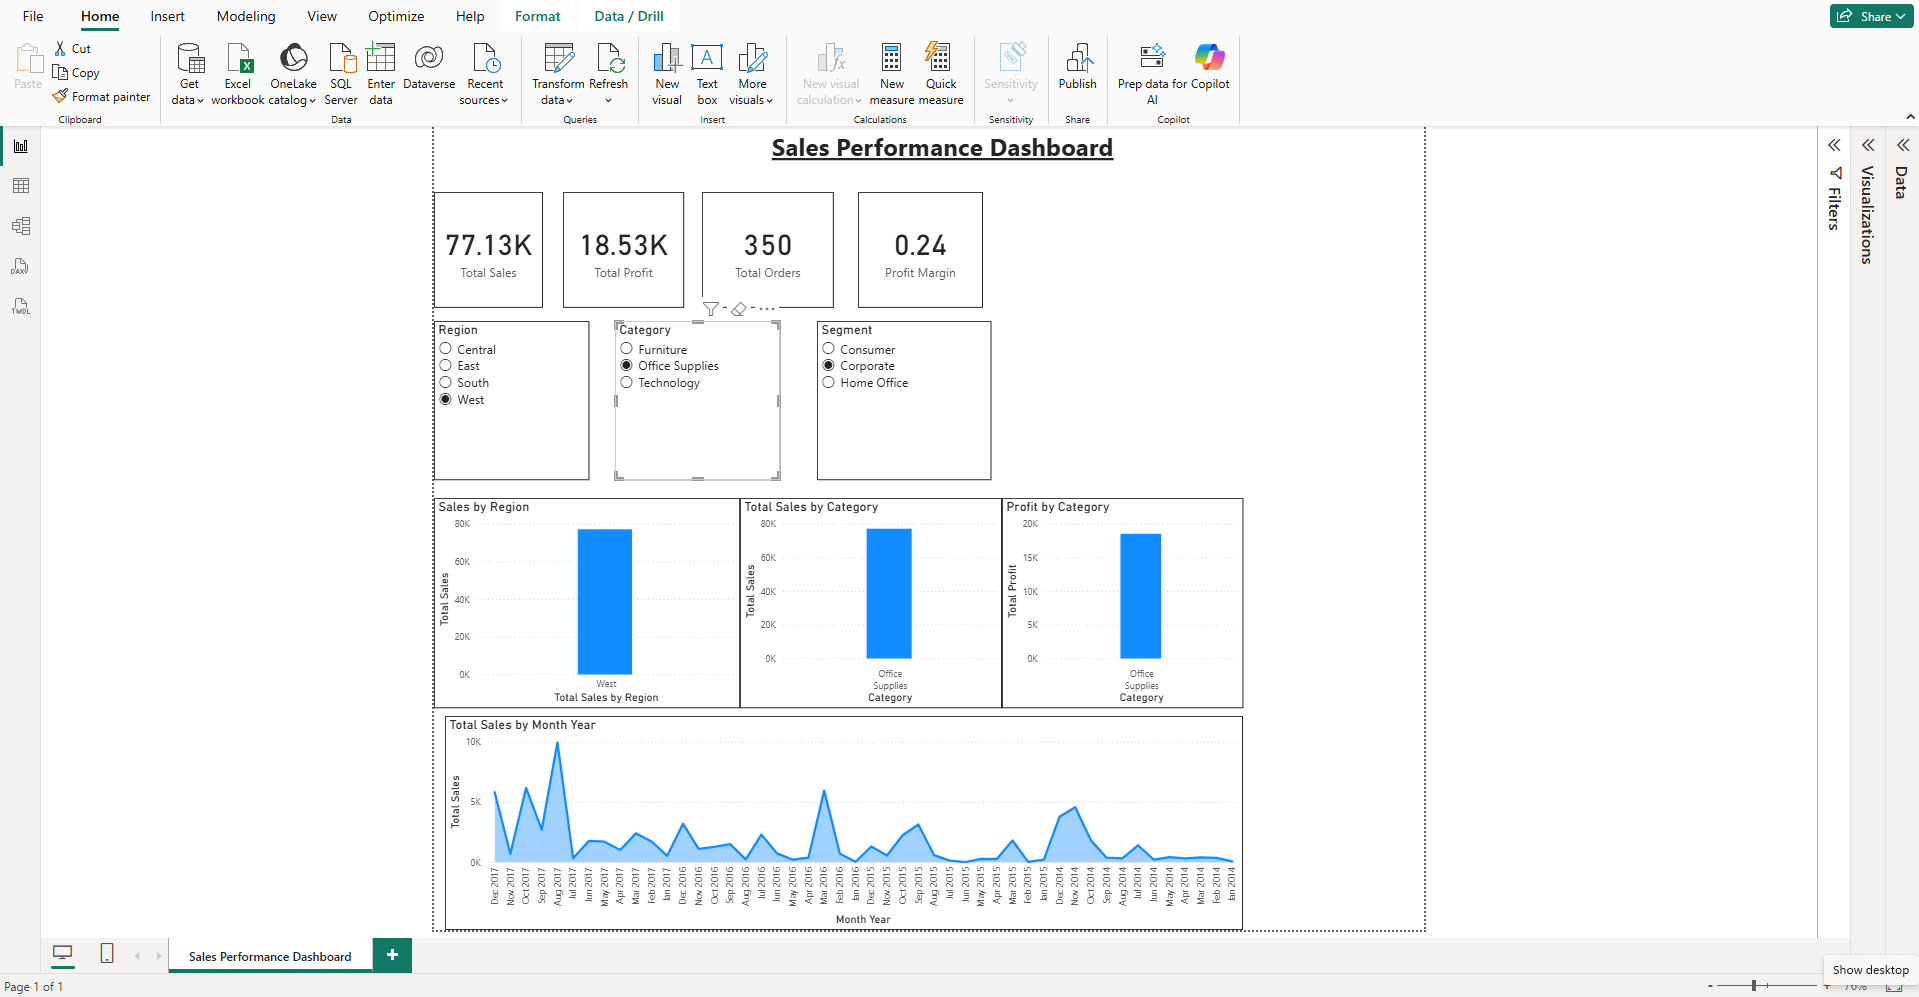

The dashboard page shown, as its layout file describes it:
{"tool":"powerbi","page":{"name":"Page 1","canvas":[1300,1056],"ordinal":0},"visuals":[{"type":"card","fields":{"Values":["cleaned_sales.Total Sales"]},"box":[0,86.7,143.2,152.4],"z":0},{"type":"card","fields":{"Values":["cleaned_sales.Total Profit"]},"box":[169.4,86.7,158.9,152.4],"z":1000},{"type":"card","fields":{"Values":["cleaned_sales.Total Orders"]},"box":[352,86.7,173.4,152.4],"z":2000},{"type":"card","fields":{"Values":["cleaned_sales.Profit Margin"]},"box":[556.9,86.7,164.2,152.4],"z":3000},{"type":"columnChart","title":"Sales by Region","fields":{"Category":["cleaned_sales.Region"],"Y":["cleaned_sales.Total Sales"]},"box":[0,488.6,401.9,275.8],"z":4000},{"type":"clusteredColumnChart","fields":{"Category":["cleaned_sales.Category"],"Y":["cleaned_sales.Total Sales"]},"box":[401.9,488.6,344.1,275.8],"z":5000},{"type":"clusteredColumnChart","title":"Profit by Category","fields":{"Category":["cleaned_sales.Category"],"Y":["cleaned_sales.Total Profit"]},"box":[746,488.6,316.5,275.8],"z":6000},{"type":"stackedAreaChart","fields":{"Y":["cleaned_sales.Total Sales"],"Category":["cleaned_sales.Month Year"]},"box":[14.4,774.9,1048.1,281.1],"z":7000},{"type":"listSlicer","fields":{"Values":["cleaned_sales.Region"]},"box":[0,256.1,203.6,208.8],"z":7001},{"type":"listSlicer","fields":{"Values":["cleaned_sales.Category"]},"box":[237.7,256.1,216.7,208.8],"z":7002},{"type":"listSlicer","fields":{"Values":["cleaned_sales.Segment"]},"box":[503,256.1,228.5,208.8],"z":7003},{"type":"textbox","box":[438.7,0,547.7,57.8],"z":7004}]}

Visuals, with their boxes on the page's 1300x1056 design canvas (x1, y1, x2, y2). These are canvas units, not pixel positions in the 1919x997 screenshot, which may show the page scaled, cropped or inside an application window:
card - cleaned_sales.Total Sales: locate(0, 87, 143, 239)
card - cleaned_sales.Total Profit: locate(169, 87, 328, 239)
card - cleaned_sales.Total Orders: locate(352, 87, 525, 239)
card - cleaned_sales.Profit Margin: locate(557, 87, 721, 239)
"Sales by Region" columnChart: locate(0, 489, 402, 764)
clusteredColumnChart - cleaned_sales.Category x cleaned_sales.Total Sales: locate(402, 489, 746, 764)
"Profit by Category" clusteredColumnChart: locate(746, 489, 1062, 764)
stackedAreaChart - cleaned_sales.Total Sales x cleaned_sales.Month Year: locate(14, 775, 1062, 1056)
listSlicer - cleaned_sales.Region: locate(0, 256, 204, 465)
listSlicer - cleaned_sales.Category: locate(238, 256, 454, 465)
listSlicer - cleaned_sales.Segment: locate(503, 256, 732, 465)
textbox: locate(439, 0, 986, 58)
